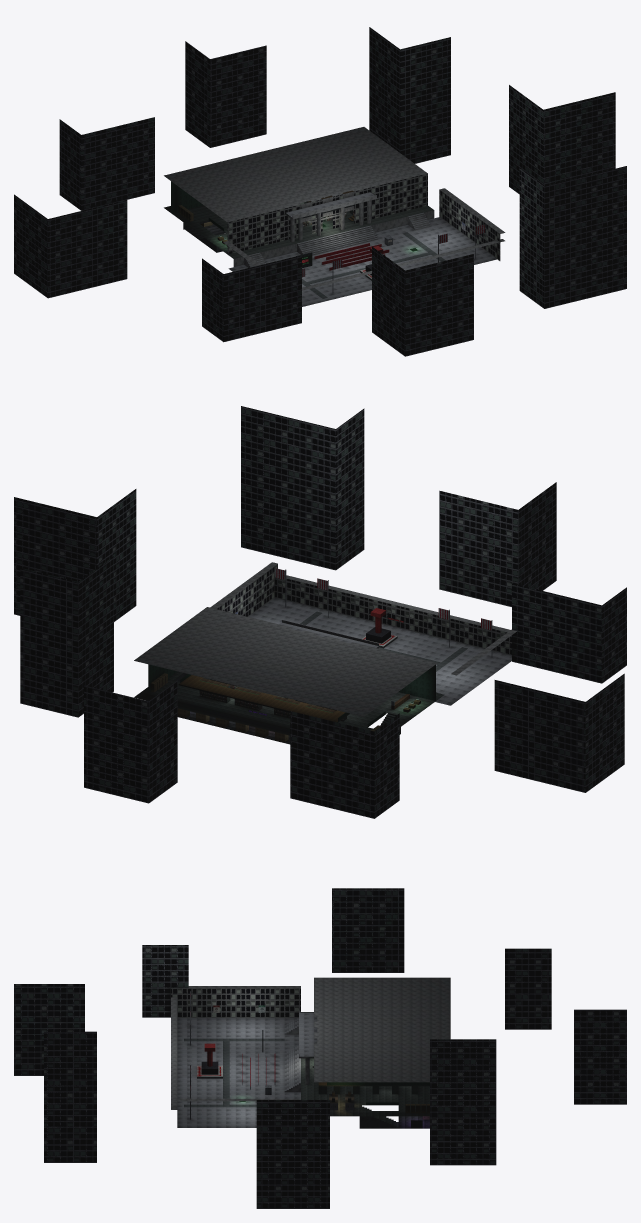
The model's file is gov.glb.
3 renders of one model, top to bottom at view 1: azimuth 30°, elevation 25°; view 2: azimuth 150°, elevation 25°; view 3: azimuth 270°, elevation 25°, orthographic. The views are drawn at different scales.
Visible parts, largest first — view 1: gov_skyline, gov_marble_wall, gov_marble, gov_civic_facade, gov_hall_floor, gov_rope, gov_marble_dark, gov_wall_green; view 2: gov_skyline, gov_marble_wall, gov_marble, gov_civic_facade, gov_hall_floor, gov_plank, gov_wall_green, gov_boxes; view 3: gov_skyline, gov_marble_wall, gov_marble, gov_civic_facade, gov_hall_floor, gov_marble_dark, gov_shelf_end, gov_rail.
Part boxes in pixels (<box>): gov_skyline: <box>14,27,626,356</box>; gov_marble_wall: <box>164,127,505,290</box>; gov_marble: <box>228,192,496,306</box>; gov_civic_facade: <box>227,173,500,260</box>; gov_hall_floor: <box>164,202,433,258</box>; gov_rope: <box>314,243,389,270</box>; gov_marble_dark: <box>302,232,445,298</box>; gov_wall_green: <box>171,181,203,213</box>; gov_skyline: <box>14,406,626,818</box>; gov_marble_wall: <box>134,562,516,716</box>; gov_marble: <box>249,598,511,705</box>; gov_civic_facade: <box>216,564,511,655</box>; gov_hall_floor: <box>134,671,444,735</box>; gov_plank: <box>179,675,345,722</box>; gov_wall_green: <box>148,664,435,700</box>; gov_boxes: <box>150,673,381,742</box>; gov_skyline: <box>14,888,626,1208</box>; gov_marble_wall: <box>171,977,450,1109</box>; gov_marble: <box>177,1012,317,1127</box>; gov_civic_facade: <box>171,988,300,1017</box>; gov_hall_floor: <box>301,1012,429,1127</box>; gov_marble_dark: <box>184,1038,284,1107</box>; gov_shelf_end: <box>318,1085,429,1094</box>; gov_rail: <box>327,1082,429,1105</box>.
Size of the model in its own units: 202 by 48.06 by 189.
54 materials, 54 textured.
